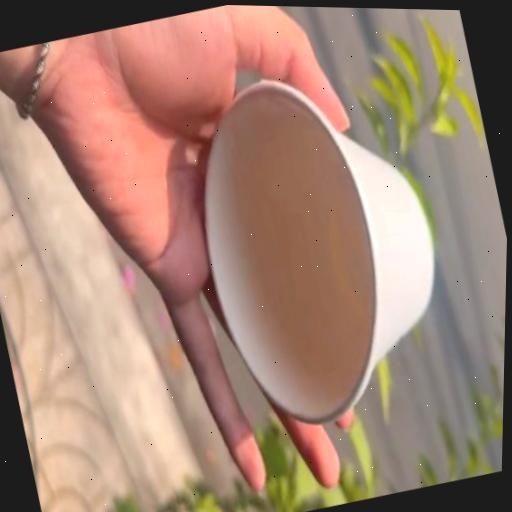ly_giay: (204, 81, 433, 424)
